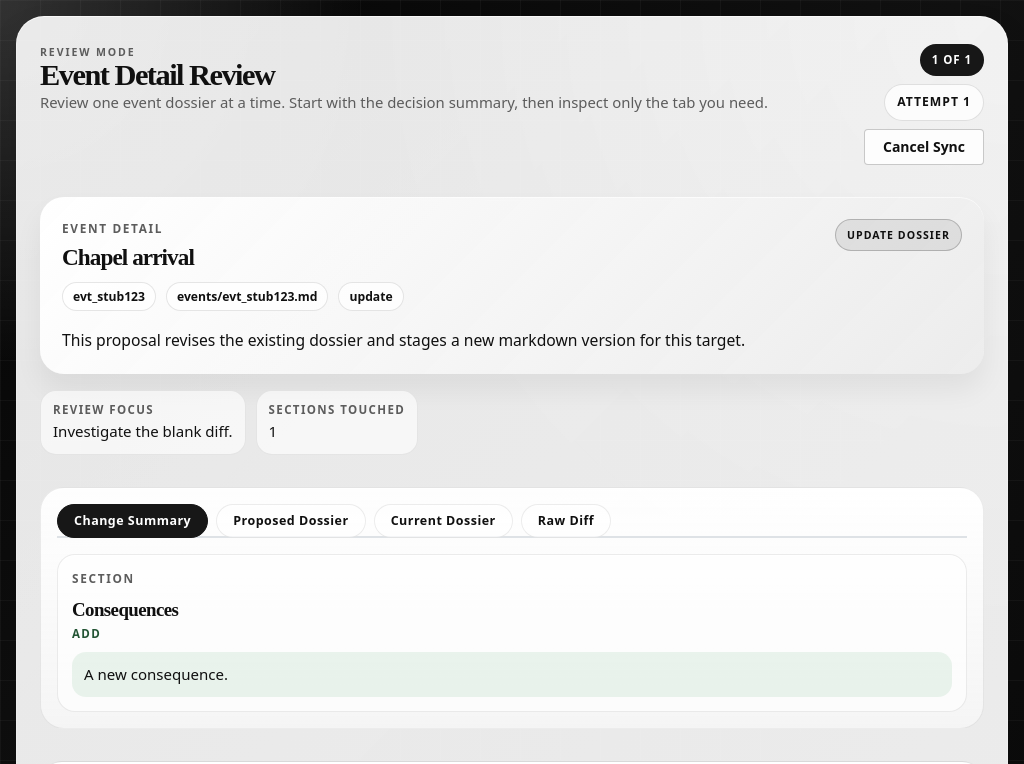
SyncReviewPanel › shows a warning when the backend reports changes but the preview diff is empty
The image size is (1024, 764).
Click the tab "Raw Diff" at [566, 521], box [521,504,611,538]
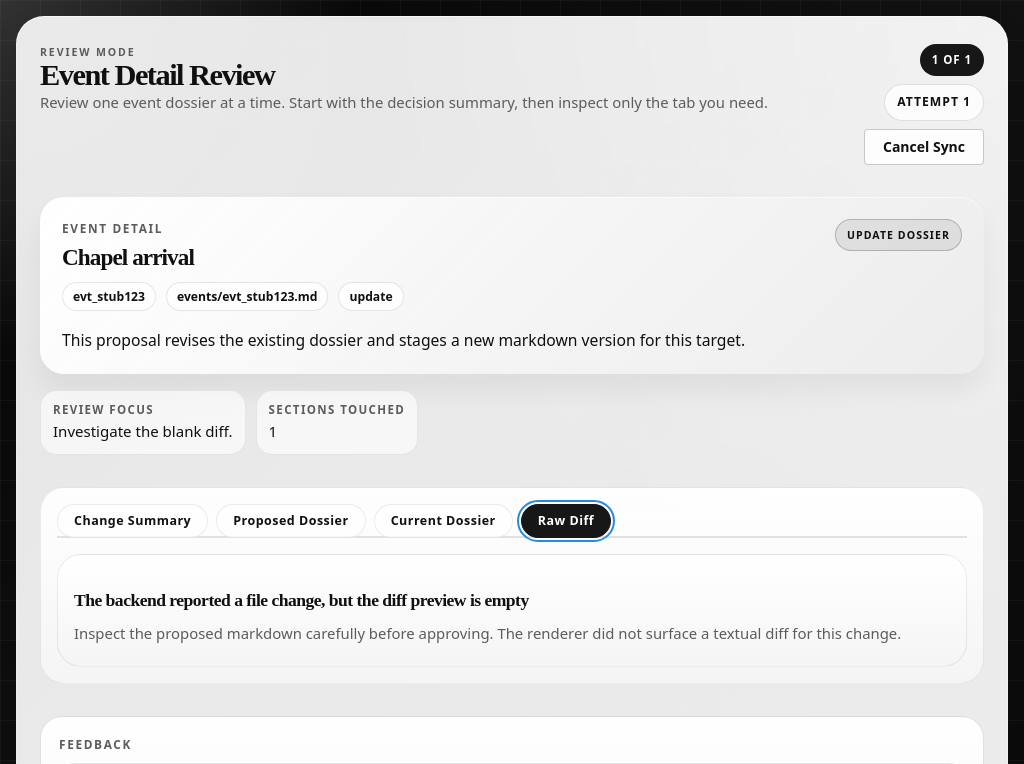
Now the text with test id "detail-empty-diff-warning-title" is shown, box [74,590,529,610]
